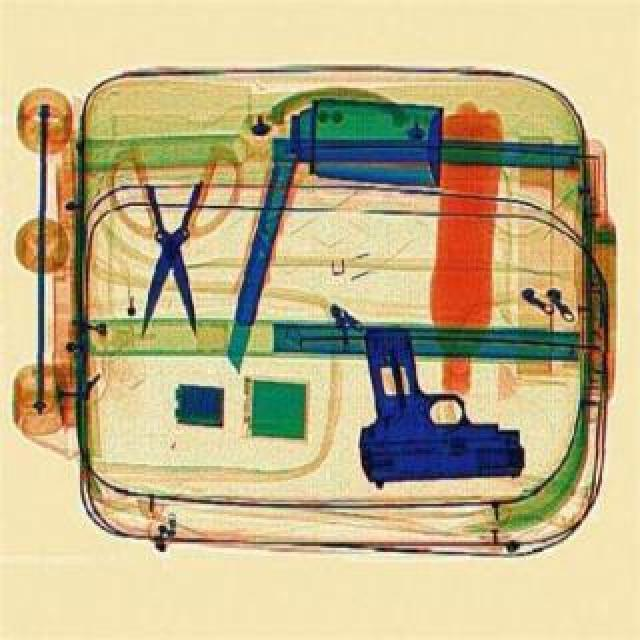gun: (358, 322, 526, 490)
pliers: (106, 142, 244, 352)
